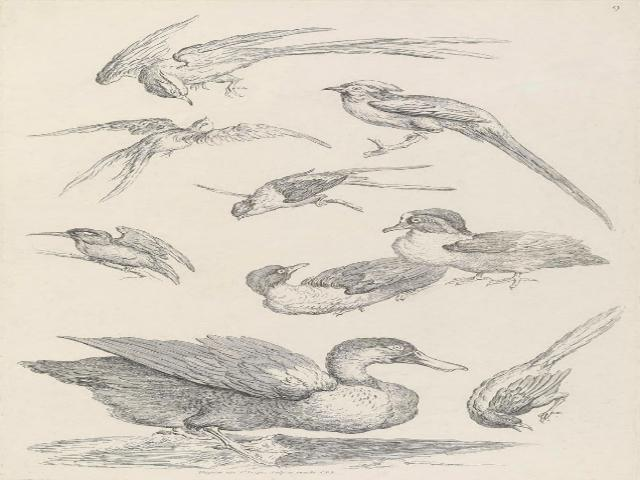Bird: (9, 336, 466, 465), (312, 70, 622, 232), (100, 15, 521, 106), (12, 116, 331, 204), (454, 303, 626, 433), (359, 205, 616, 289), (187, 163, 472, 214), (240, 256, 461, 319), (11, 224, 189, 281)
